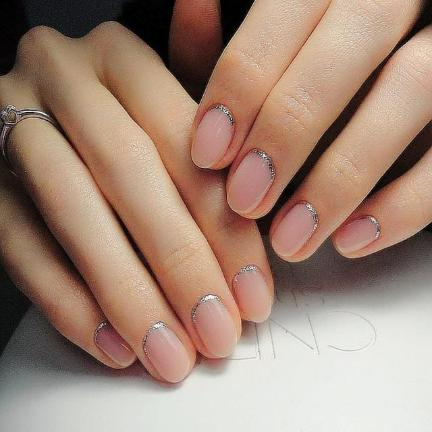Nail: (227, 148, 275, 214), (191, 103, 236, 169), (143, 321, 190, 383), (192, 294, 238, 357), (271, 200, 319, 257), (232, 265, 271, 323), (93, 320, 137, 366), (334, 215, 382, 254)
